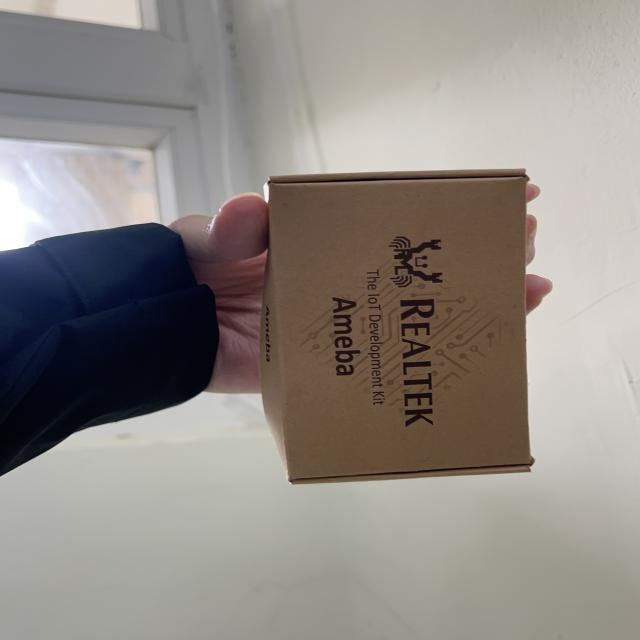box: (242, 153, 560, 502)
